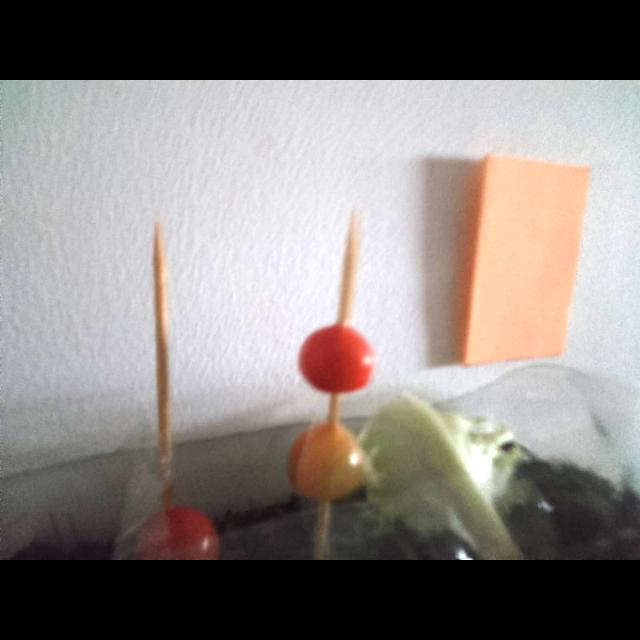card: (460, 155, 589, 364)
fruit_maturation: (288, 423, 364, 501)
fully_grown: (299, 324, 374, 394), (136, 507, 218, 560)
